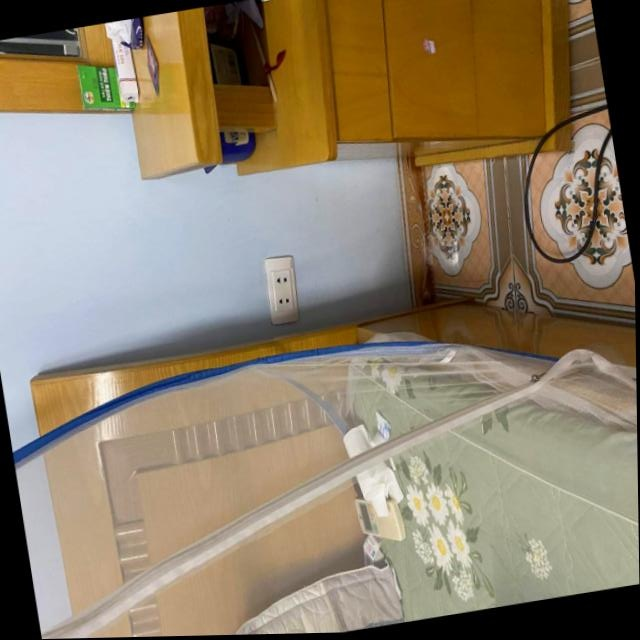outlet: (261, 254, 303, 327)
